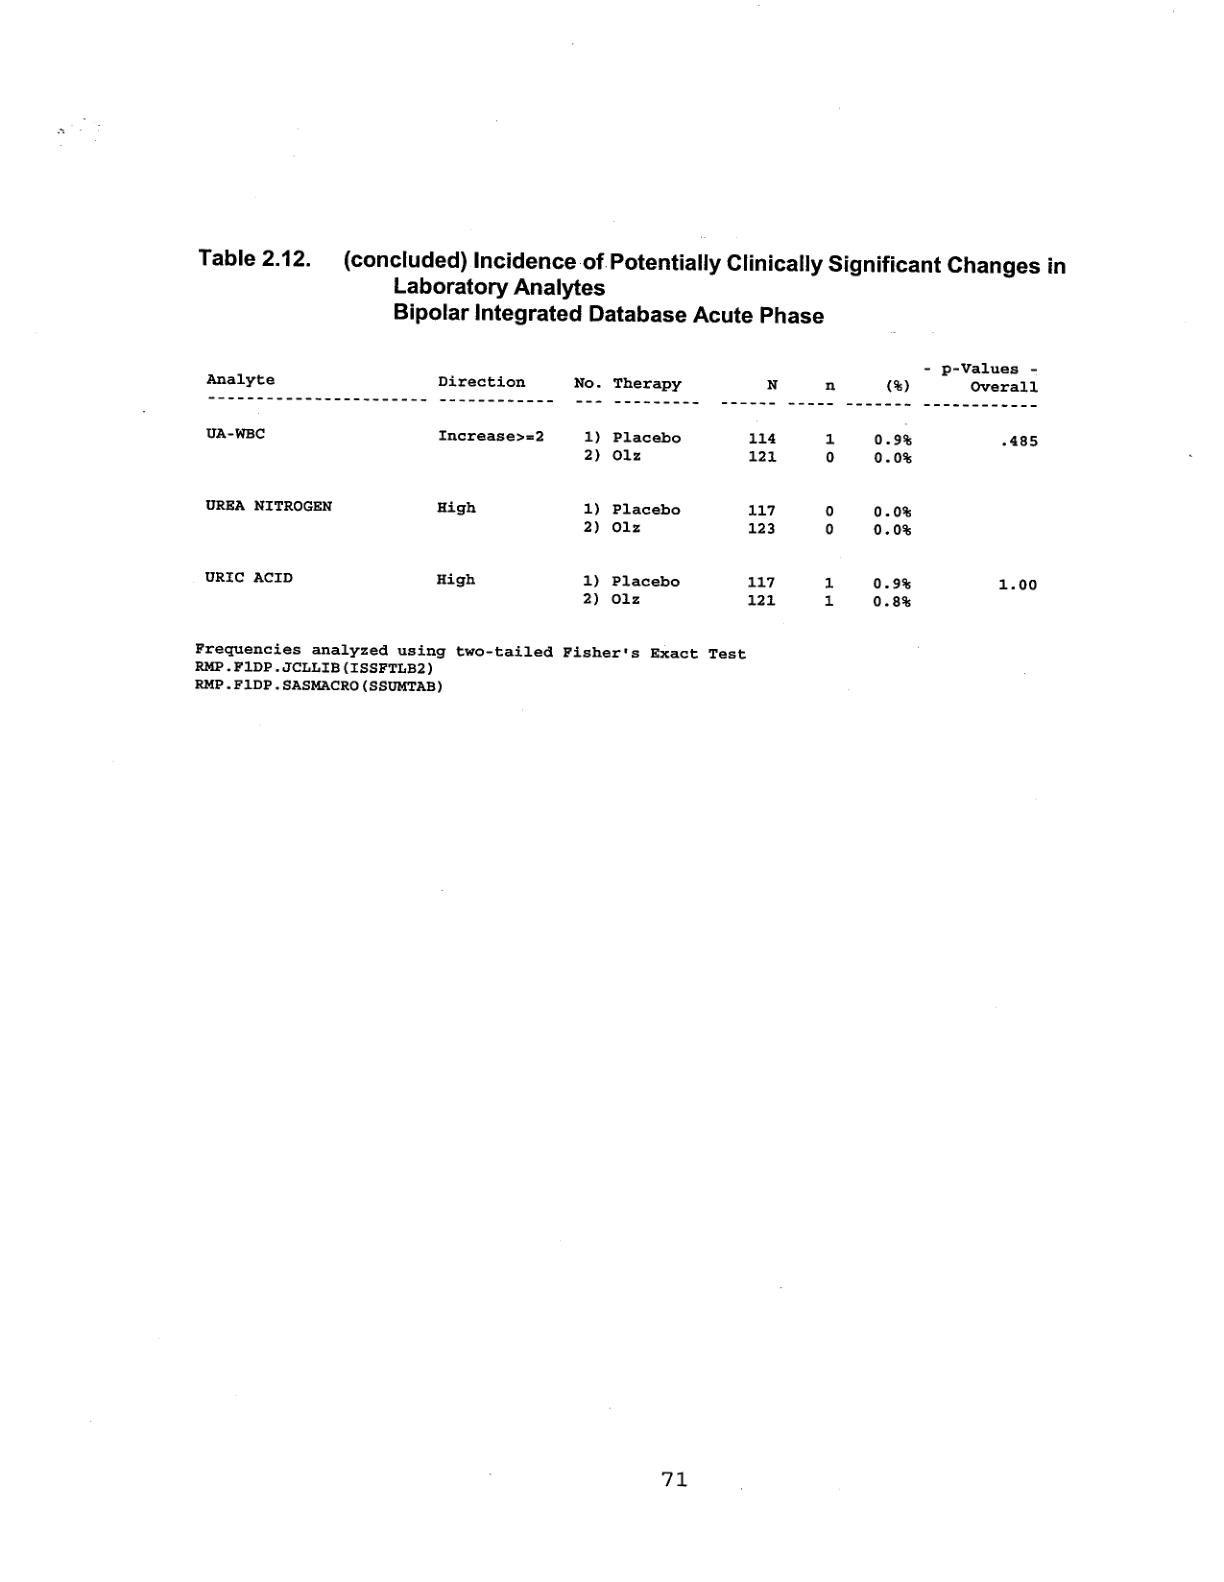nolines: (203, 361, 1042, 610)
